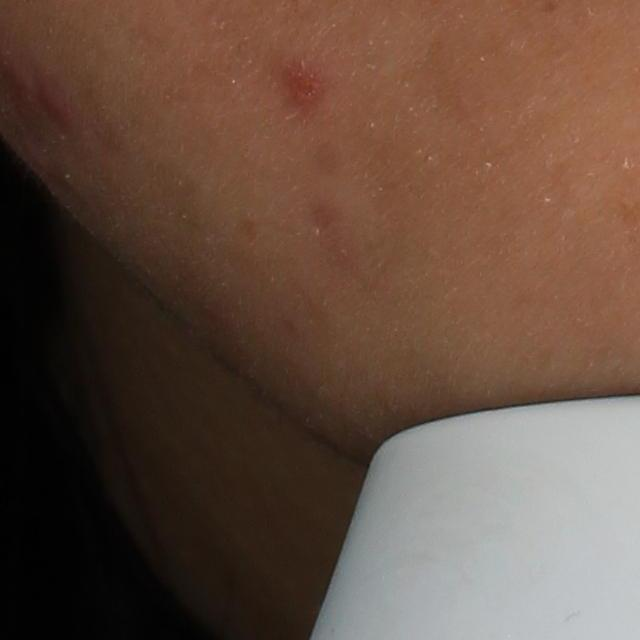papule: (278, 58, 330, 110), (42, 78, 76, 137)
